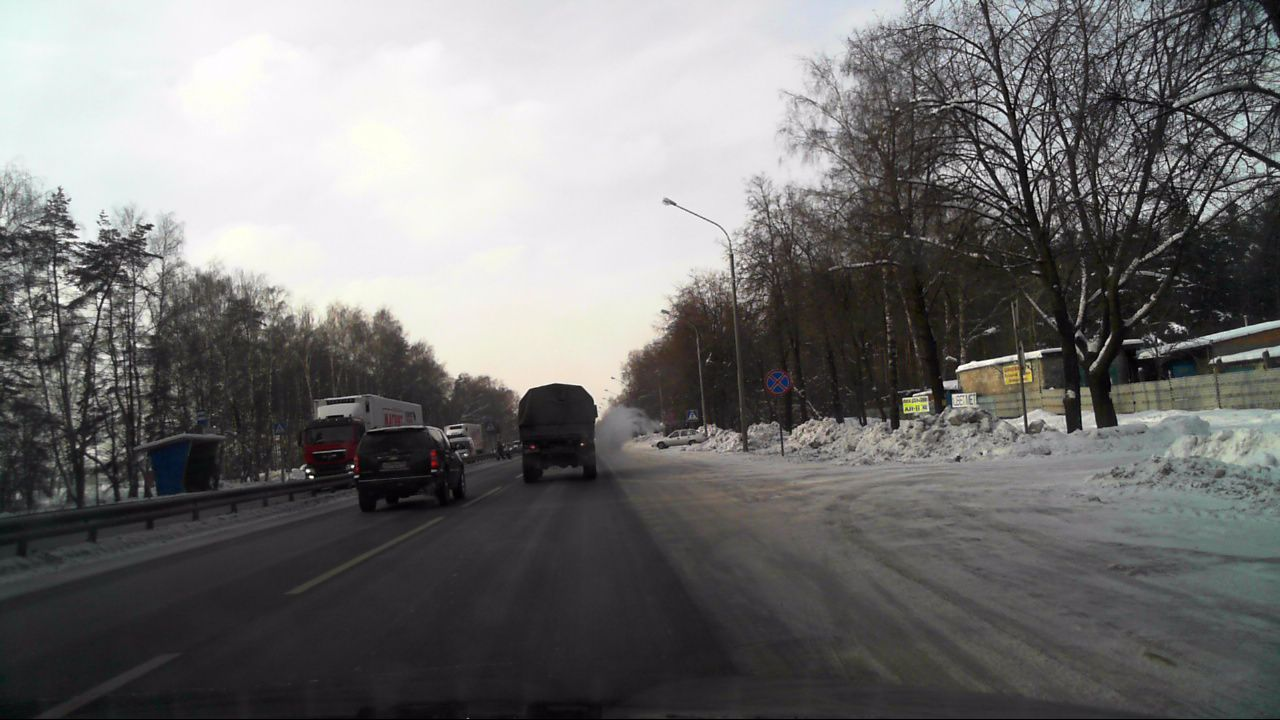No Parking: (764, 370, 791, 396)
